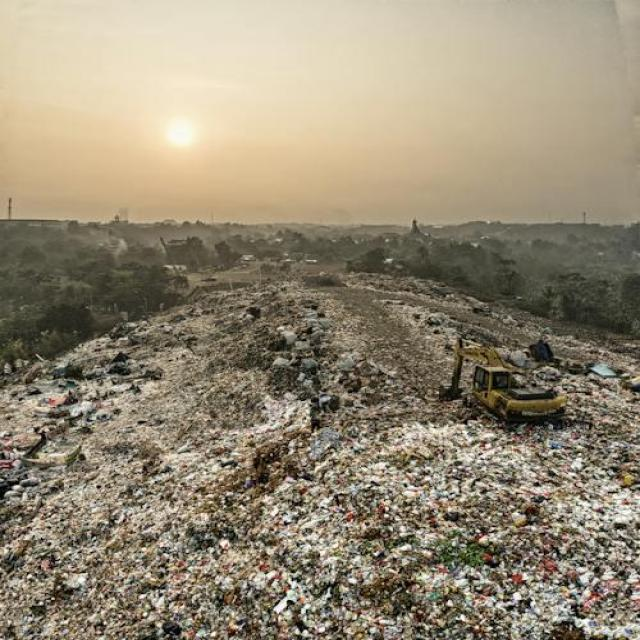trash: (6, 344, 439, 612), (488, 496, 614, 630)
